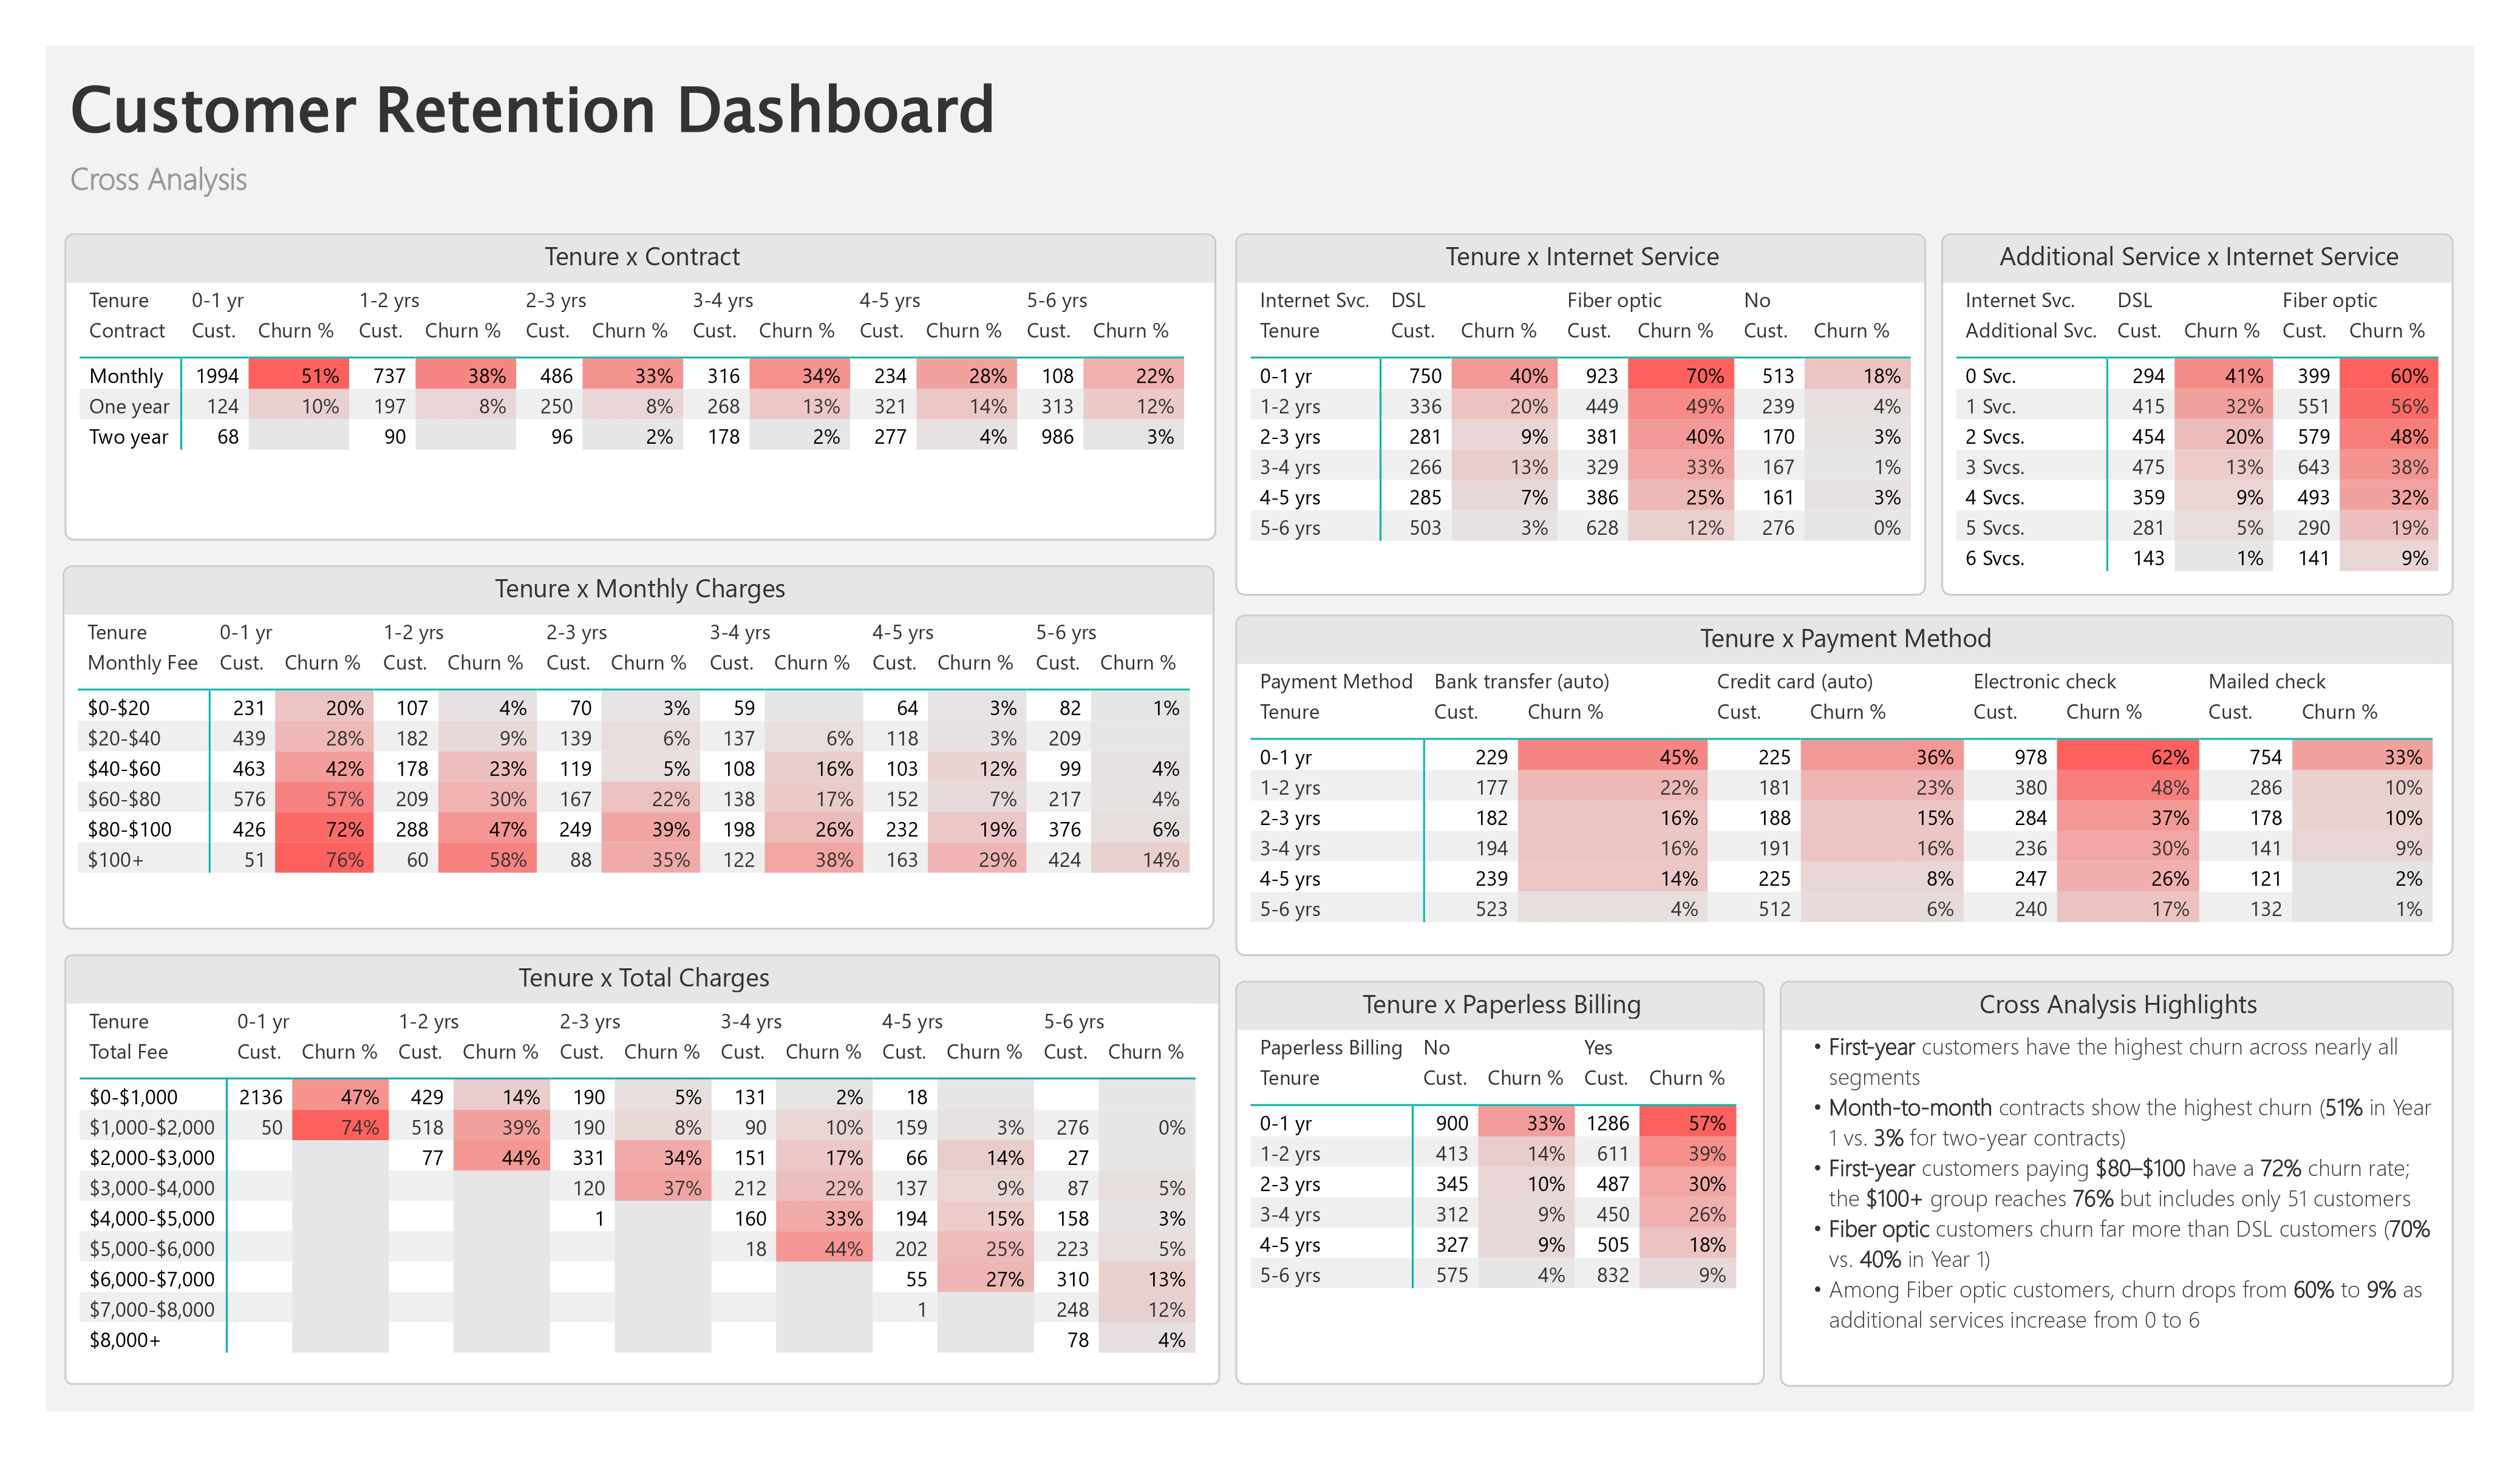

The page's visual inventory and layout, read from the dashboard file:
{"tool":"powerbi","page":{"name":"Cross Analysis","canvas":[1280,720],"ordinal":2},"visuals":[{"type":"pivotTable","title":"Tenure x Contract","fields":{"Values":["CountNonNull(01 Churn-Dataset.customerID)","01 Churn-Dataset.Churn Rate"],"Rows":["01 Churn-Dataset.Contract"],"Columns":["01 Churn-Dataset.tenure (groups)"]},"box":[10,99,607,162],"z":0},{"type":"pivotTable","title":"Tenure x Total Charges","fields":{"Values":["CountNonNull(01 Churn-Dataset.customerID)","01 Churn-Dataset.Churn Rate"],"Columns":["01 Churn-Dataset.tenure (groups)"],"Rows":["01 Churn-Dataset.Total Charges Group"]},"box":[10,478.7,608.7,227.3],"z":1000},{"type":"pivotTable","title":"Tenure x Monthly Charges","fields":{"Columns":["01 Churn-Dataset.tenure (groups)"],"Values":["CountNonNull(01 Churn-Dataset.customerID)","01 Churn-Dataset.Churn Rate"],"Rows":["01 Churn-Dataset.Monthly Charge Group"]},"box":[8.6,273.6,607.9,192.9],"z":2000},{"type":"textbox","title":"Customer Retention Analysis","box":[8.3,5,673.3,93.3],"z":3000},{"type":"pivotTable","title":"Tenure x Internet Service","fields":{"Values":["CountNonNull(01 Churn-Dataset.customerID)","01 Churn-Dataset.Churn Rate"],"Columns":["Customer Churn Dataset.InternetService"],"Rows":["Customer Churn Dataset.tenure (groups)"]},"box":[627.1,98.6,364.3,191.4],"z":4000},{"type":"pivotTable","title":"Additional Service x Internet Service","fields":{"Values":["CountNonNull(01 Churn-Dataset.customerID)","01 Churn-Dataset.Churn Rate"],"Columns":["Customer Churn Dataset.InternetService"],"Rows":["Customer Churn Dataset.Additional Service Group"]},"box":[998.6,98.6,270,191.4],"z":5000},{"type":"pivotTable","title":"Tenure x Payment Method","fields":{"Values":["CountNonNull(01 Churn-Dataset.customerID)","01 Churn-Dataset.Churn Rate"],"Columns":["Customer Churn Dataset.PaymentMethod"],"Rows":["Customer Churn Dataset.tenure (groups)"]},"box":[627.1,300,641.4,180],"z":6000},{"type":"pivotTable","title":"Tenure x Paperless Billing","fields":{"Values":["CountNonNull(01 Churn-Dataset.customerID)","01 Churn-Dataset.Churn Rate"],"Columns":["Customer Churn Dataset.PaperlessBilling"],"Rows":["Customer Churn Dataset.tenure (groups)"]},"box":[627.1,492.9,278.6,212.9],"z":7000},{"type":"textbox","title":"Cross Analysis Highlights","box":[914.3,492.9,354.3,214.3],"z":8000}]}

Visuals, with their boxes on the page's 1280x720 design canvas (x1, y1, x2, y2). These are canvas units, not pixel positions in the 2520x1457 screenshot, which may show the page scaled, cropped or inside an application window:
"Tenure x Contract" pivotTable: pyautogui.locateOnScreen(10, 99, 617, 261)
"Tenure x Total Charges" pivotTable: pyautogui.locateOnScreen(10, 479, 619, 706)
"Tenure x Monthly Charges" pivotTable: pyautogui.locateOnScreen(9, 274, 616, 466)
"Customer Retention Analysis" textbox: pyautogui.locateOnScreen(8, 5, 682, 98)
"Tenure x Internet Service" pivotTable: pyautogui.locateOnScreen(627, 99, 991, 290)
"Additional Service x Internet Service" pivotTable: pyautogui.locateOnScreen(999, 99, 1269, 290)
"Tenure x Payment Method" pivotTable: pyautogui.locateOnScreen(627, 300, 1268, 480)
"Tenure x Paperless Billing" pivotTable: pyautogui.locateOnScreen(627, 493, 906, 706)
"Cross Analysis Highlights" textbox: pyautogui.locateOnScreen(914, 493, 1269, 707)
